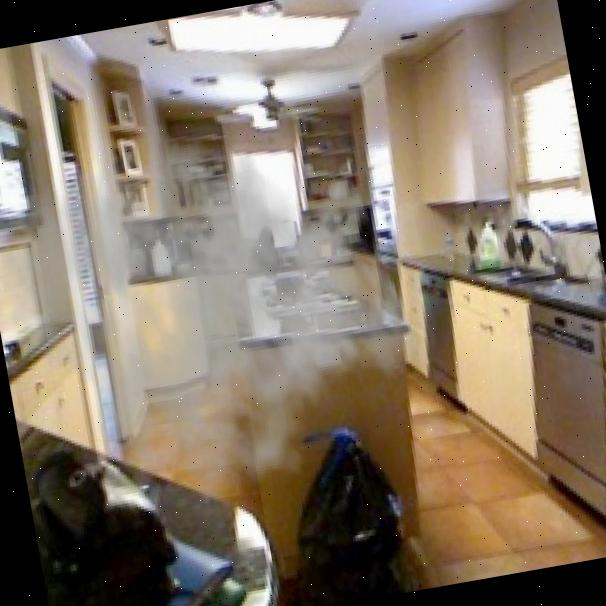smoke: (0, 60, 445, 542)
